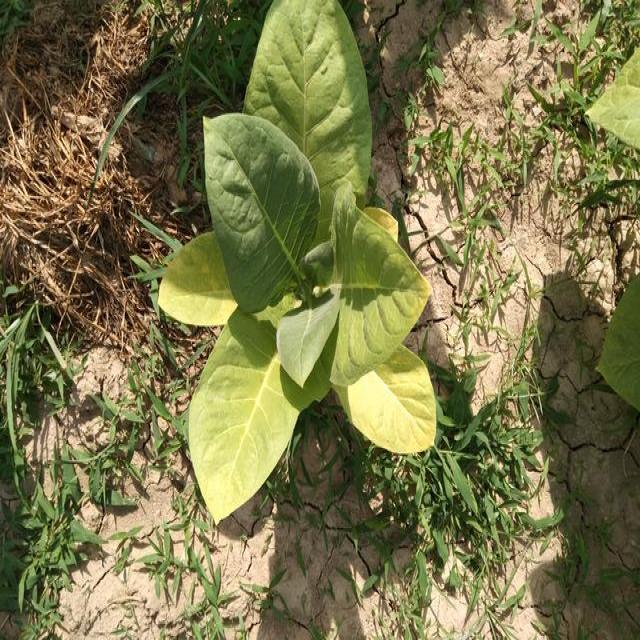crop: (146, 1, 446, 522)
